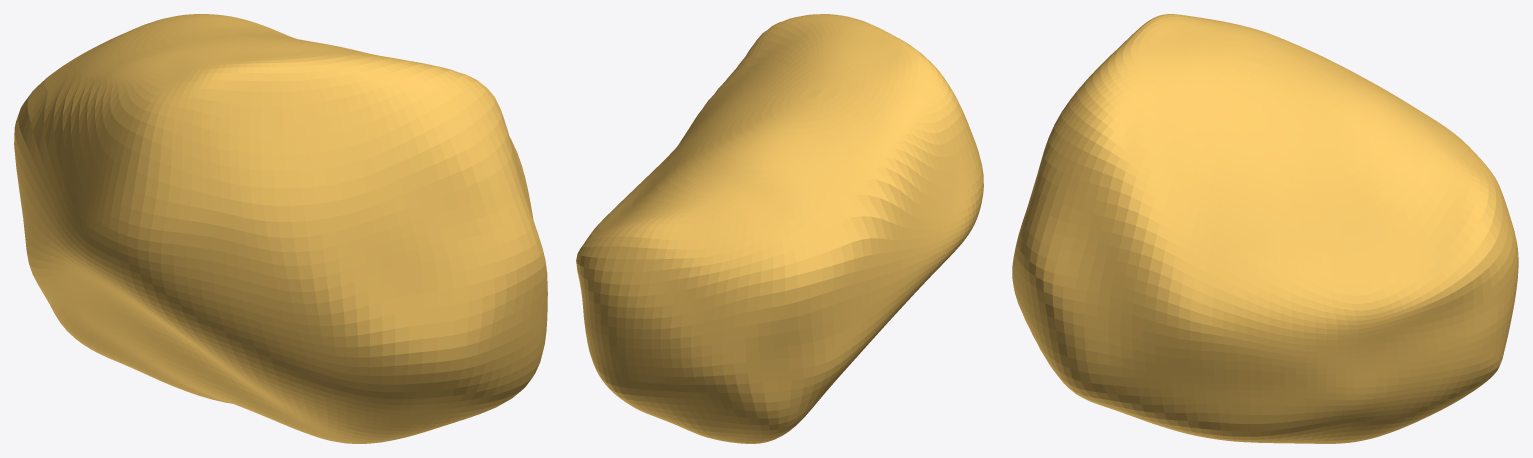
The model's file is Desert_Rock1.fbx.
3 renders of one model, left to right at view 1: azimuth 30°, elevation 25°; view 2: azimuth 150°, elevation 25°; view 3: azimuth 270°, elevation 25°, orthographic. The views are drawn at different scales.
Visible parts, largest first — view 1: Sphere.001; view 2: Sphere.001; view 3: Sphere.001.
Boxes of the visible parts, bbox=[...] form: Sphere.001: bbox=[14, 14, 547, 443]; Sphere.001: bbox=[576, 14, 983, 443]; Sphere.001: bbox=[1012, 14, 1518, 443].
Size of the model in its own units: 581 by 583 by 749.
